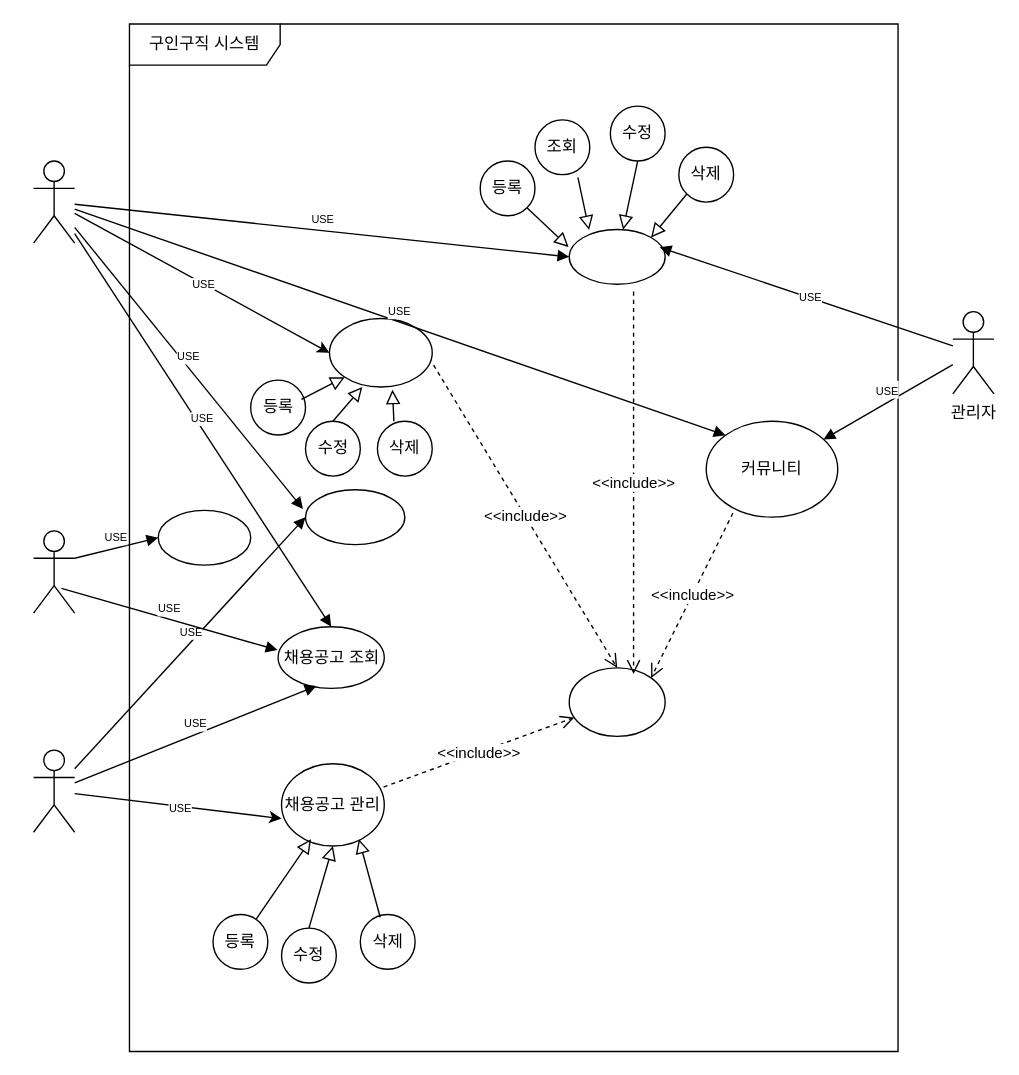
The diagram is 1019 pixels wide and 1075 high, and some of its shapes have lost their labels. The shapes that lost their labels are listed below. From the top down, each one's centre as x and y in pixels, then its label:
At pixel 53 201: "개인회원".
At pixel 616 256: "회원관리".
At pixel 380 352: "이력서 관리".
At pixel 354 516: "이력서조회".
At pixel 204 537: "회원가입".
At pixel 53 571: "비회원".
At pixel 616 701: "로그인".
At pixel 53 790: "기업회원".
